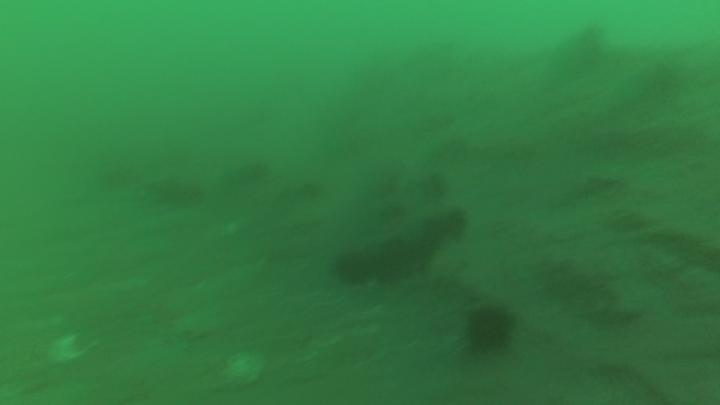echinus: (461, 297, 520, 363), (426, 208, 468, 245), (378, 242, 413, 284), (336, 249, 370, 285)
scallop: (222, 350, 269, 389)
